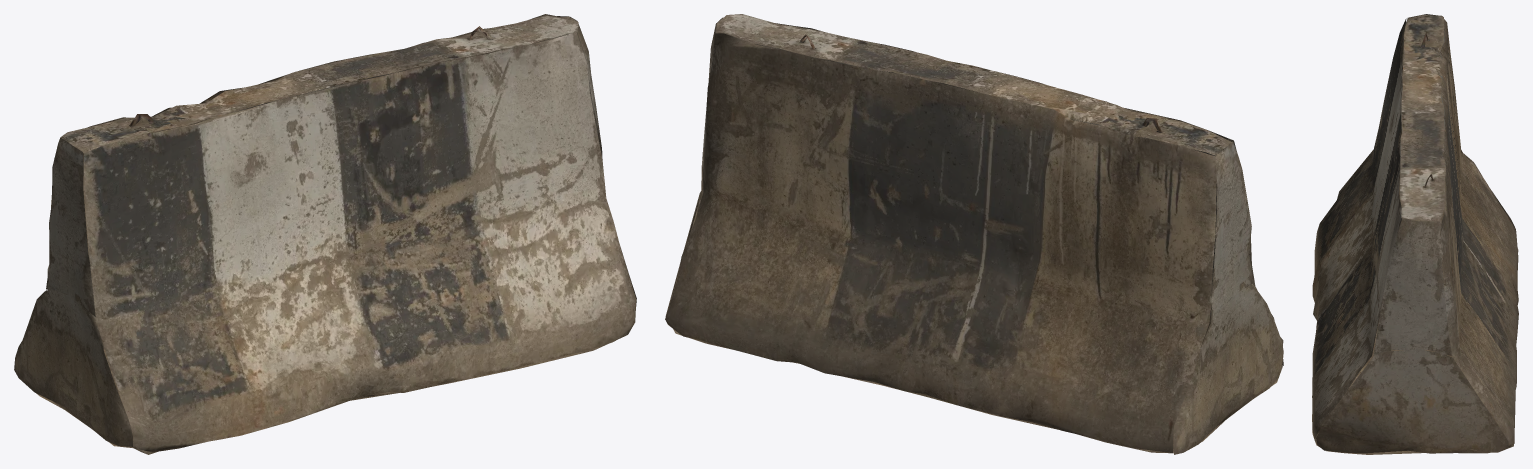
File: concrete_road_barrier.glb
The picture shows the model from 3 angles, left to right: view 1: azimuth 30°, elevation 25°; view 2: azimuth 150°, elevation 25°; view 3: azimuth 270°, elevation 25°; orthographic projection. The views are drawn at different scales.
Visible parts, largest first — view 1: concrete_road_barrier; view 2: concrete_road_barrier; view 3: concrete_road_barrier.
Boxes of the visible parts, x1,y1,x2,y2 form: concrete_road_barrier: [14, 14, 636, 454]; concrete_road_barrier: [665, 14, 1283, 454]; concrete_road_barrier: [1312, 14, 1518, 454].
Size of the model in its own units: 1.54 by 0.8323 by 0.6343.
1 material, 1 textured.
